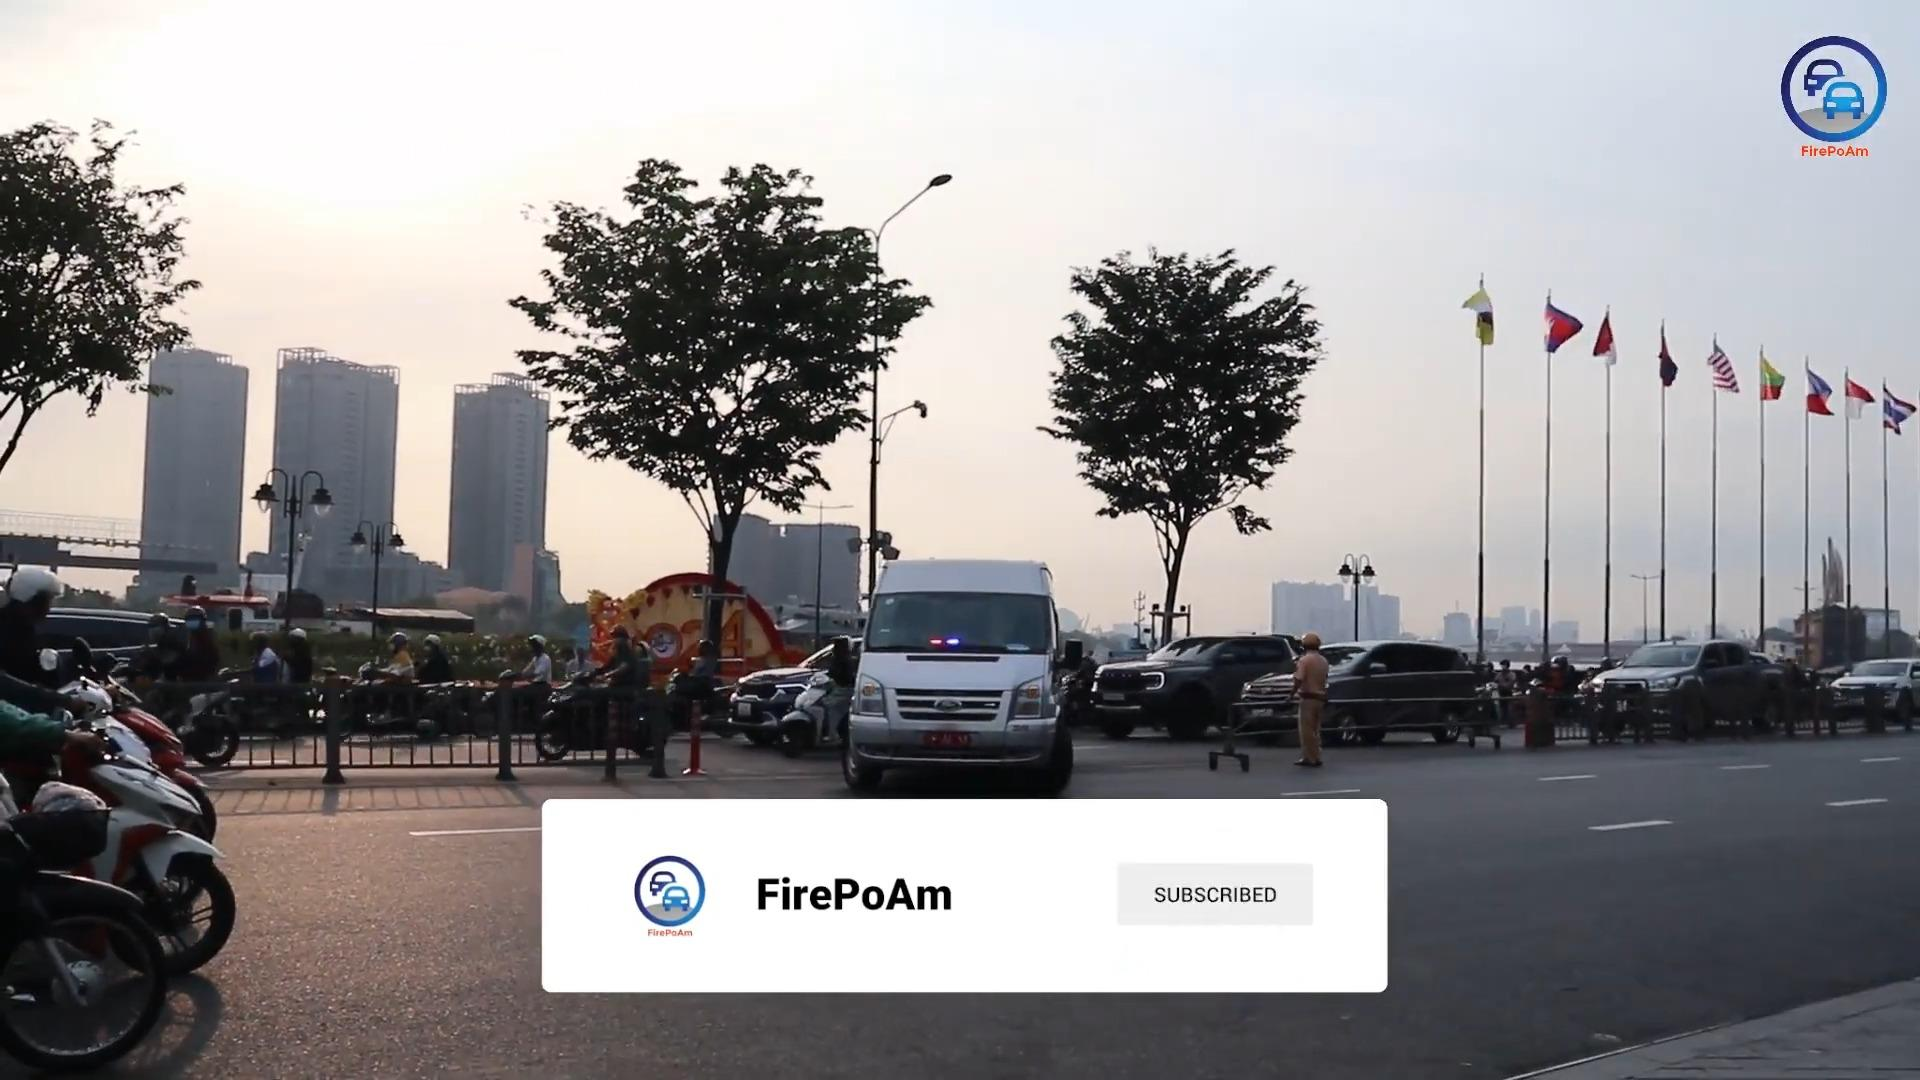bien_so: (920, 730, 972, 750)
